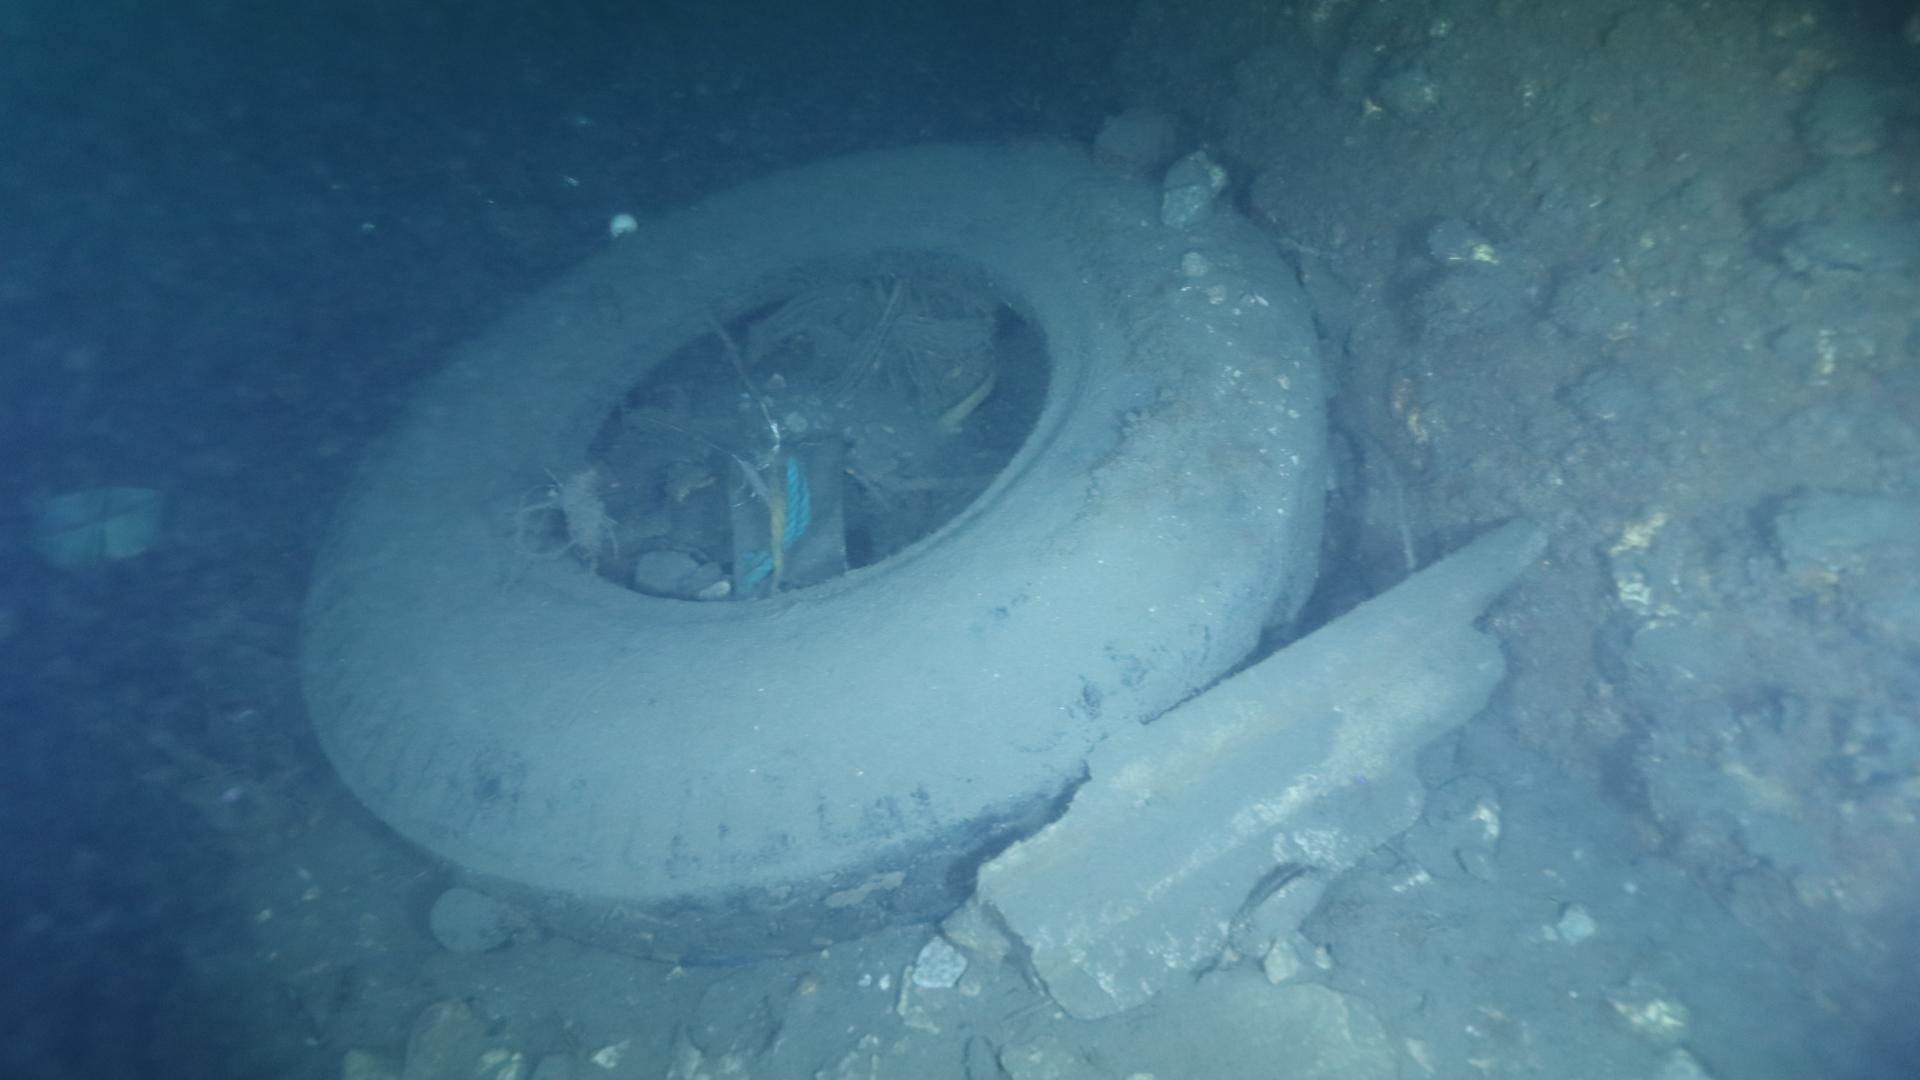tire: (287, 140, 1336, 965)
